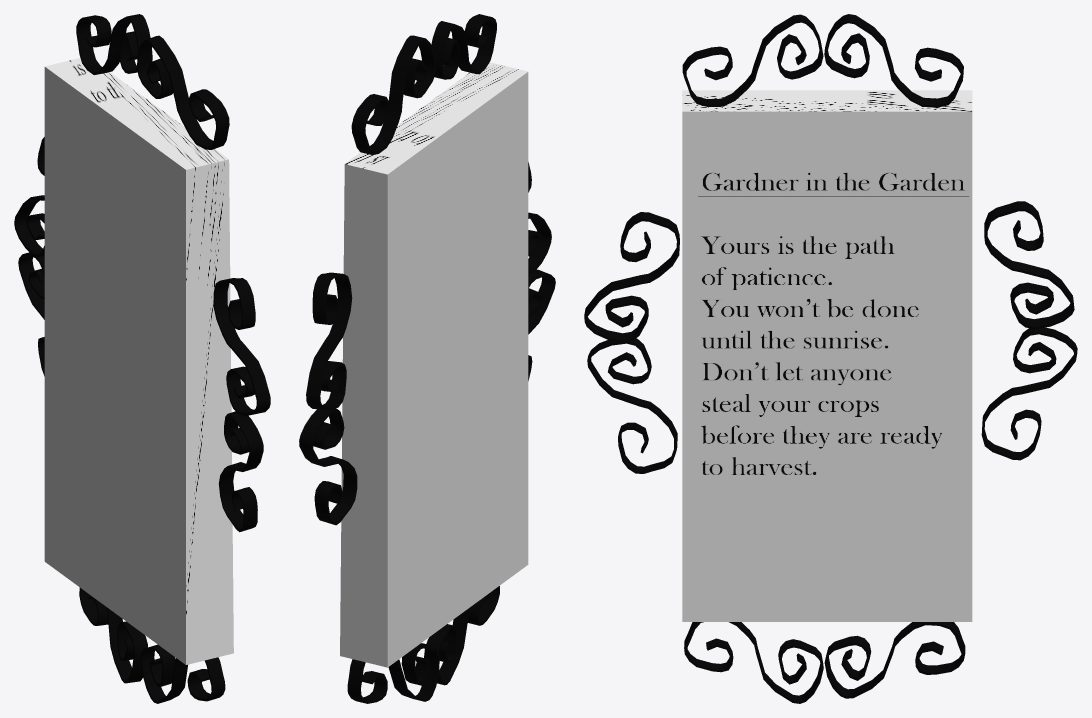
The model's file is spawn gardner in garden.fbx.
3 renders of one model, left to right at view 1: azimuth 30°, elevation 25°; view 2: azimuth 150°, elevation 25°; view 3: azimuth 270°, elevation 25°, orthographic. The views are drawn at different scales.
Parts seen in each view (by area): view 1: pCube1, nurbsToPoly3, nurbsToPoly5, nurbsToPoly4, nurbsToPoly6; view 2: pCube1, nurbsToPoly6, nurbsToPoly3, nurbsToPoly4, nurbsToPoly5; view 3: pCube1, nurbsToPoly6, nurbsToPoly3, nurbsToPoly5, nurbsToPoly4.
Boxes of the visible parts, x1,y1,x2,y2 form: pCube1: (44,58,233,664); nurbsToPoly3: (76,14,229,149); nurbsToPoly5: (213,278,270,532); nurbsToPoly4: (79,587,225,703); nurbsToPoly6: (14,137,44,376); pCube1: (340,62,528,667); nurbsToPoly6: (299,272,357,525); nurbsToPoly3: (351,14,496,154); nurbsToPoly4: (347,586,499,703); nurbsToPoly5: (528,162,555,381); pCube1: (682,90,972,621); nurbsToPoly6: (981,201,1077,460); nurbsToPoly3: (682,14,963,107); nurbsToPoly5: (584,212,679,473); nurbsToPoly4: (684,622,965,703).
Bounding box in the file's own units: 1.56 × 20.81 × 13.6.
